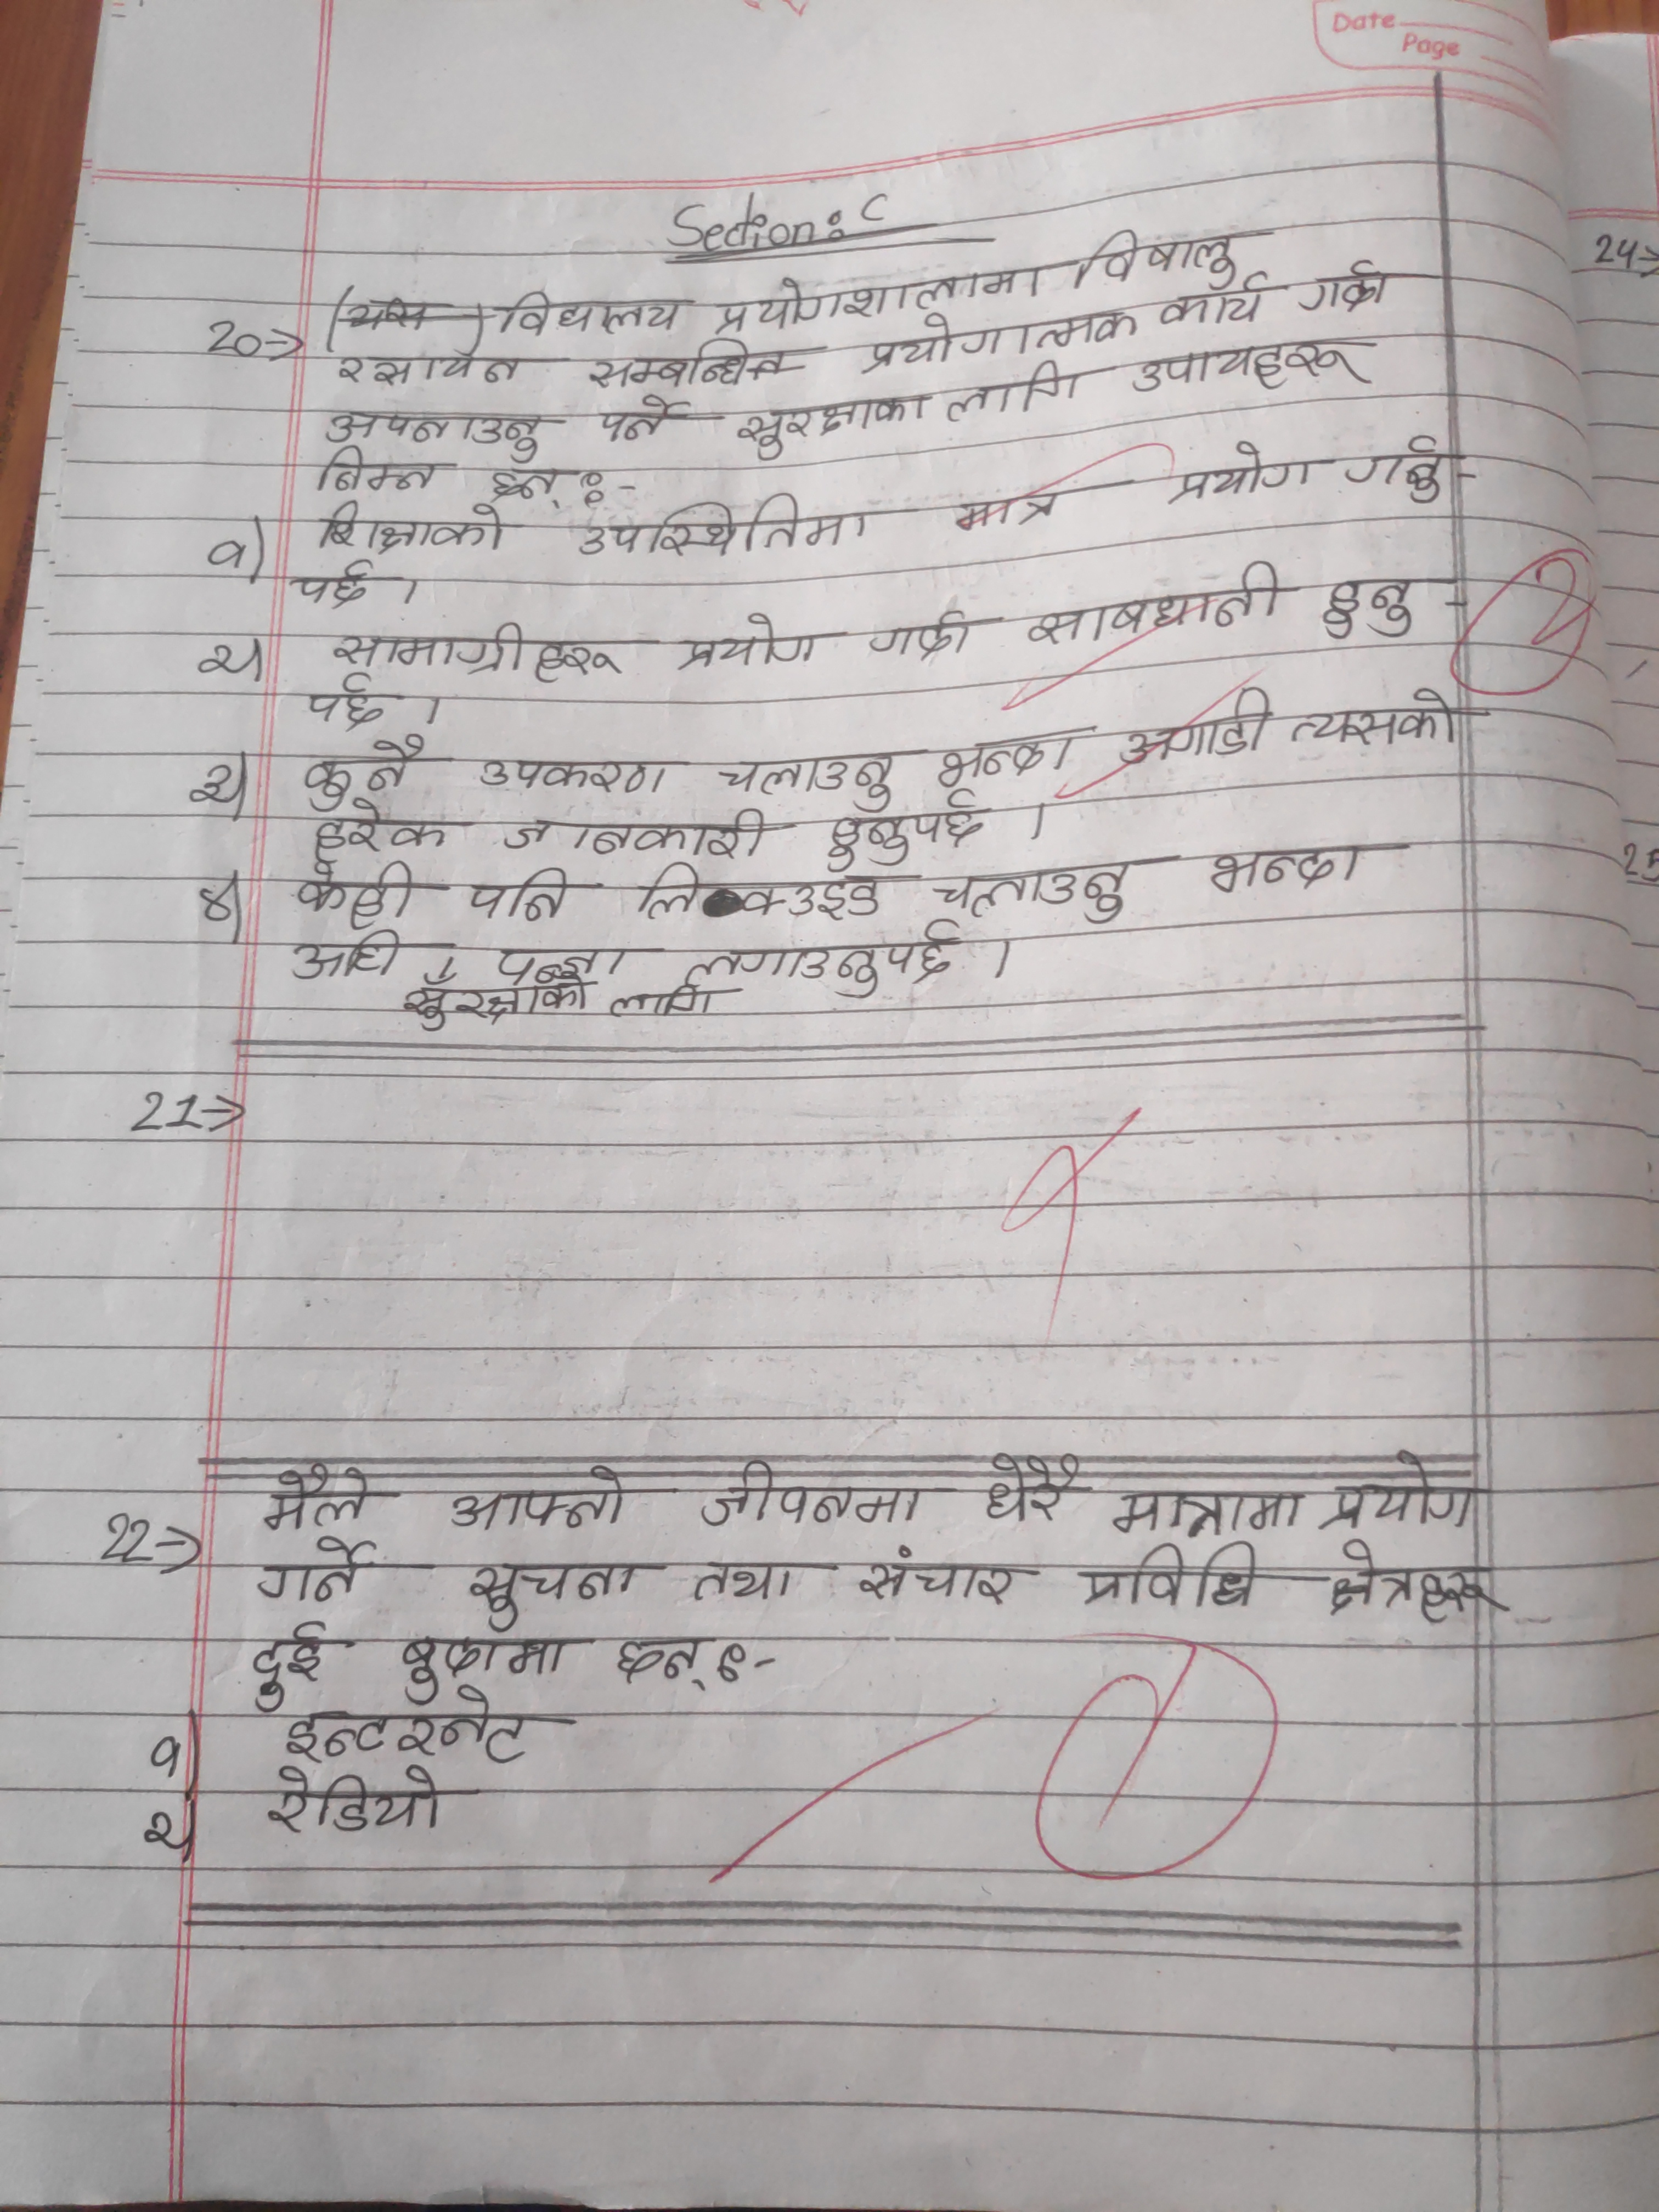text: (1026, 556, 1284, 651), (676, 916, 962, 1000), (577, 489, 875, 559), (634, 857, 892, 928), (1317, 1538, 1506, 1629), (322, 622, 626, 678), (502, 799, 779, 859), (258, 1764, 451, 1843), (697, 1463, 924, 1529), (1126, 336, 1389, 392), (929, 853, 1140, 921), (1110, 1477, 1312, 1547), (823, 794, 990, 878), (326, 401, 551, 462), (1068, 1543, 1262, 1613), (317, 493, 516, 559), (465, 1555, 640, 1630), (274, 1712, 540, 1761), (1328, 1449, 1483, 1533), (1117, 683, 1276, 763), (713, 268, 915, 331), (396, 1625, 565, 1700), (739, 392, 929, 458), (444, 1463, 622, 1533), (1073, 225, 1241, 296), (396, 972, 587, 1033), (716, 749, 901, 812), (1288, 686, 1473, 749), (471, 745, 681, 799), (934, 357, 1093, 428), (857, 1543, 1021, 1611), (857, 308, 1028, 373), (1204, 833, 1368, 897), (674, 611, 831, 676), (497, 287, 683, 340), (1173, 439, 1319, 505), (326, 345, 535, 390), (580, 336, 749, 392), (289, 860, 427, 928), (1310, 566, 1422, 648), (1345, 428, 1455, 510), (303, 733, 420, 810), (983, 1444, 1080, 1534), (934, 726, 1087, 784), (258, 1463, 373, 1538), (310, 799, 453, 859), (246, 1538, 366, 1608), (915, 251, 1049, 312), (464, 862, 579, 930), (246, 1620, 328, 1714), (282, 927, 406, 988), (481, 935, 636, 982), (305, 444, 448, 495), (1157, 272, 1274, 331), (950, 479, 1063, 536), (615, 1623, 713, 1689), (690, 1559, 807, 1611), (601, 979, 721, 1028), (1030, 300, 1140, 352), (1295, 258, 1398, 314), (301, 671, 392, 732), (598, 392, 694, 449), (868, 610, 981, 653), (291, 559, 383, 606), (483, 458, 568, 502)
